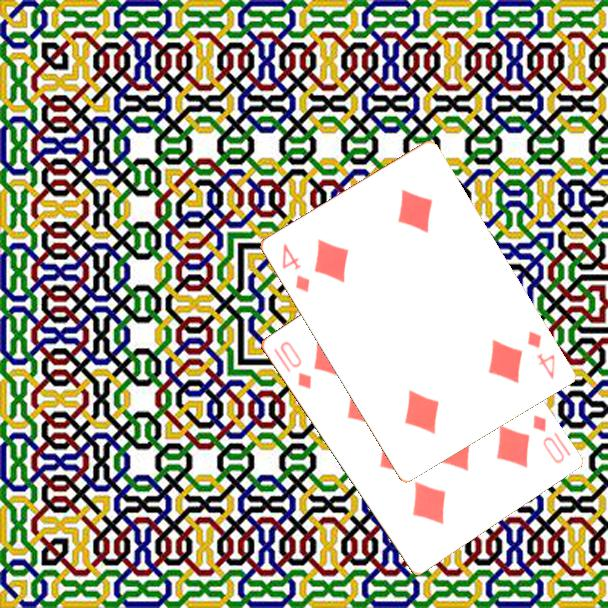d04: (278, 240, 312, 295), (523, 327, 557, 382)
d10: (528, 411, 574, 467), (276, 338, 314, 392)
